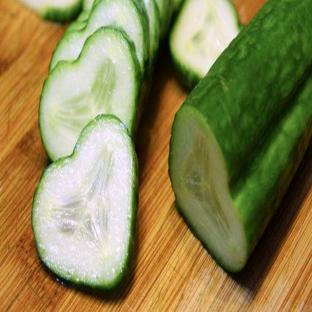Cucumber: (170, 0, 311, 271), (32, 116, 137, 289), (39, 27, 141, 160), (50, 0, 149, 76), (170, 0, 239, 87), (66, 12, 88, 32)
